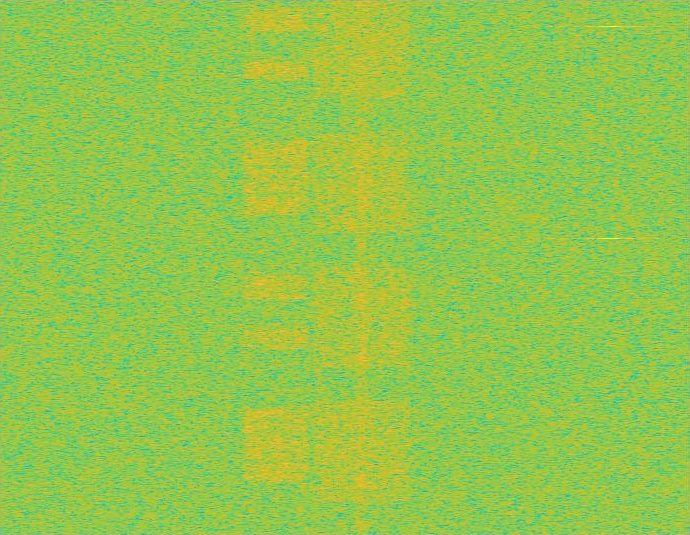5G: (310, 0, 414, 534)
DSSS: (355, 0, 369, 534)
LTE: (241, 0, 310, 534)
Radar: (603, 0, 617, 534)
